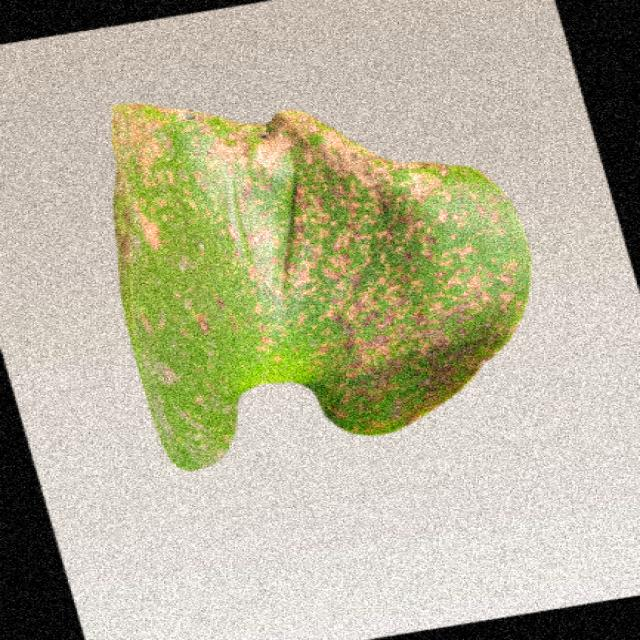daun berpenyakit bercak: (112, 104, 530, 470)
